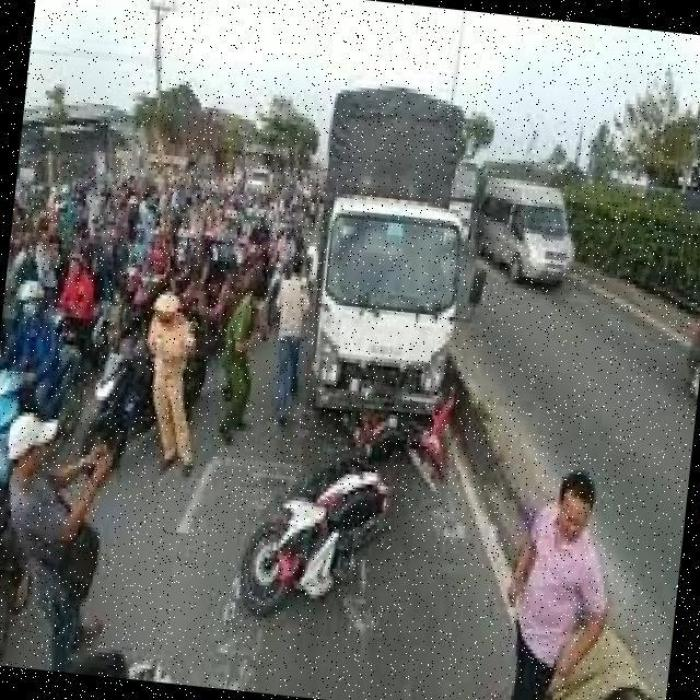Accident: (233, 293, 495, 674)
